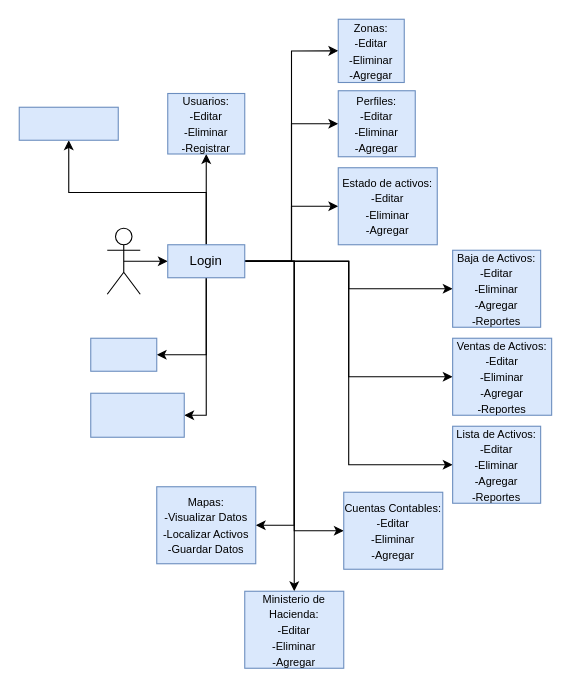
Image size: 571x689. Some labels were removed from this diagram. The shapes that lost their labels are listed below. From the top down, each one's centre as x and y in pixels, then its label:
At (x=68, y=123): "Recuperar Contraseña".
At (x=123, y=260): "Maestro".
At (x=123, y=354): "Historial".
At (x=137, y=414): "Sección de ayuda".
